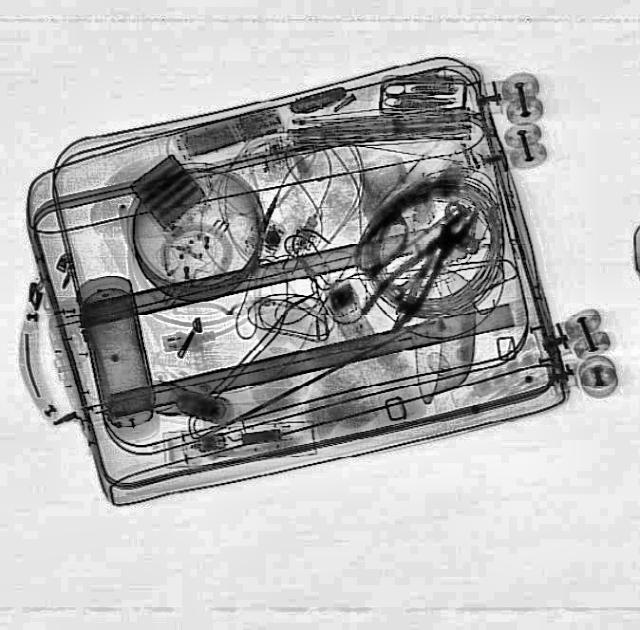Pliers: (356, 196, 490, 338)
